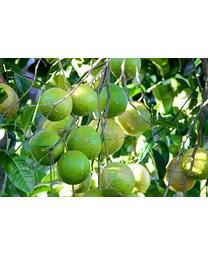lemon: (29, 129, 65, 165), (99, 161, 135, 196), (116, 101, 152, 135), (68, 125, 102, 159), (164, 159, 198, 193), (39, 87, 74, 120), (57, 150, 90, 183), (68, 85, 99, 116), (98, 84, 128, 115)
